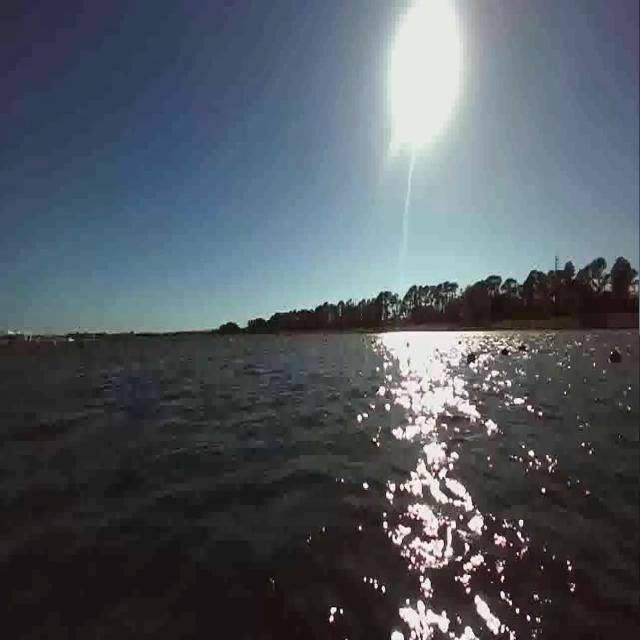red-buoy: (613, 348, 623, 364)
